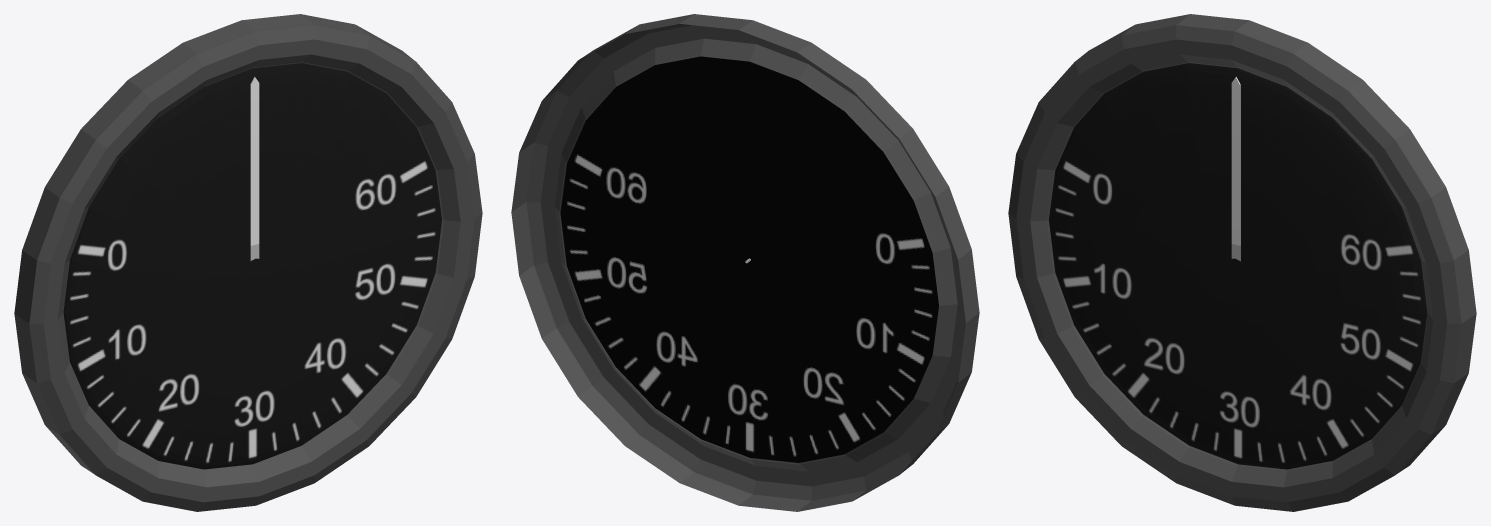
Rendered from Gauge_OilB.obj.
The picture shows the model from 3 angles, left to right: view 1: azimuth 30°, elevation 25°; view 2: azimuth 150°, elevation 25°; view 3: azimuth 330°, elevation 25°; orthographic projection.
Parts seen in each view (by area): view 1: Face, Rim, NeedleMain; view 2: Face, Rim; view 3: Face, Rim, NeedleMain.
Boxes of the visible parts, x1=… form: Face: x1=63, y1=63, x2=441, y2=469; Rim: x1=14, y1=14, x2=482, y2=511; NeedleMain: x1=250, y1=77, x2=259, y2=245; Face: x1=560, y1=56, x2=938, y2=462; Rim: x1=511, y1=14, x2=979, y2=511; Face: x1=1049, y1=63, x2=1427, y2=469; Rim: x1=1008, y1=14, x2=1476, y2=511; NeedleMain: x1=1231, y1=77, x2=1240, y2=245.
Bounding box in the file's own units: 0.0822 × 0.0822 × 0.00794.
